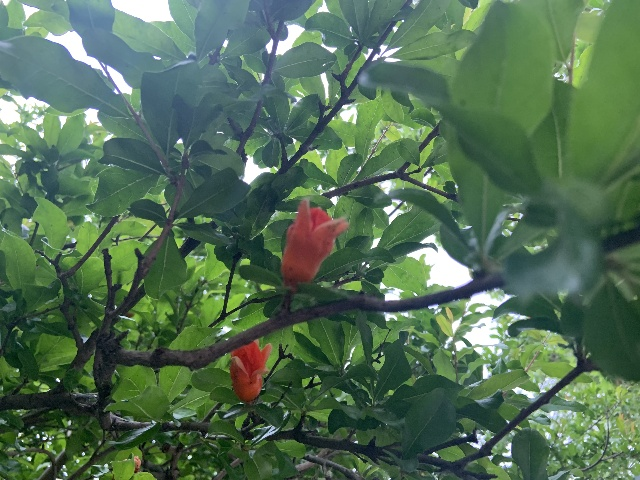bud: (133, 456, 141, 472)
flower: (281, 198, 349, 290), (228, 339, 273, 404)
